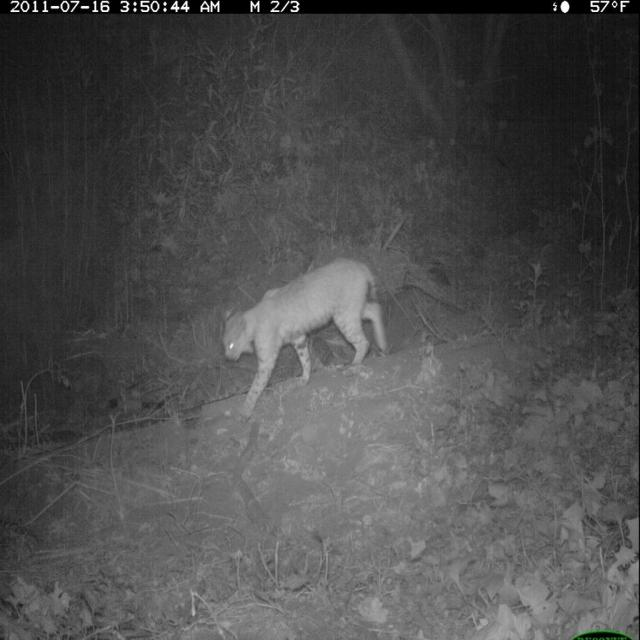bobcat: (216, 250, 393, 430)
